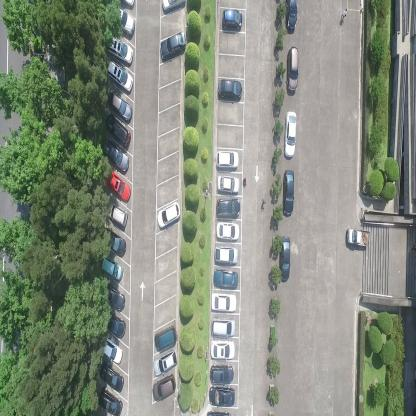car: (105, 168, 131, 204), (106, 34, 134, 67), (105, 112, 131, 147), (106, 61, 134, 93), (103, 139, 129, 173), (160, 28, 186, 61), (106, 89, 132, 121), (98, 362, 124, 393), (152, 346, 178, 376), (152, 371, 176, 403), (97, 387, 123, 415), (156, 200, 180, 230), (102, 282, 126, 312), (281, 168, 295, 218), (101, 254, 124, 284), (103, 228, 126, 258), (114, 6, 136, 37), (100, 338, 124, 365), (154, 323, 177, 351), (107, 200, 128, 230), (345, 225, 370, 250), (218, 77, 242, 103), (286, 44, 298, 94), (278, 236, 291, 282), (213, 267, 239, 290), (210, 292, 237, 314), (104, 313, 126, 340), (284, 110, 296, 158), (216, 197, 241, 219), (209, 363, 234, 385), (210, 317, 237, 337), (208, 387, 236, 406), (210, 340, 236, 359), (216, 221, 239, 242), (222, 7, 242, 31), (214, 150, 239, 169), (213, 246, 239, 264), (285, 0, 298, 34), (217, 174, 240, 193), (161, 0, 186, 15)
